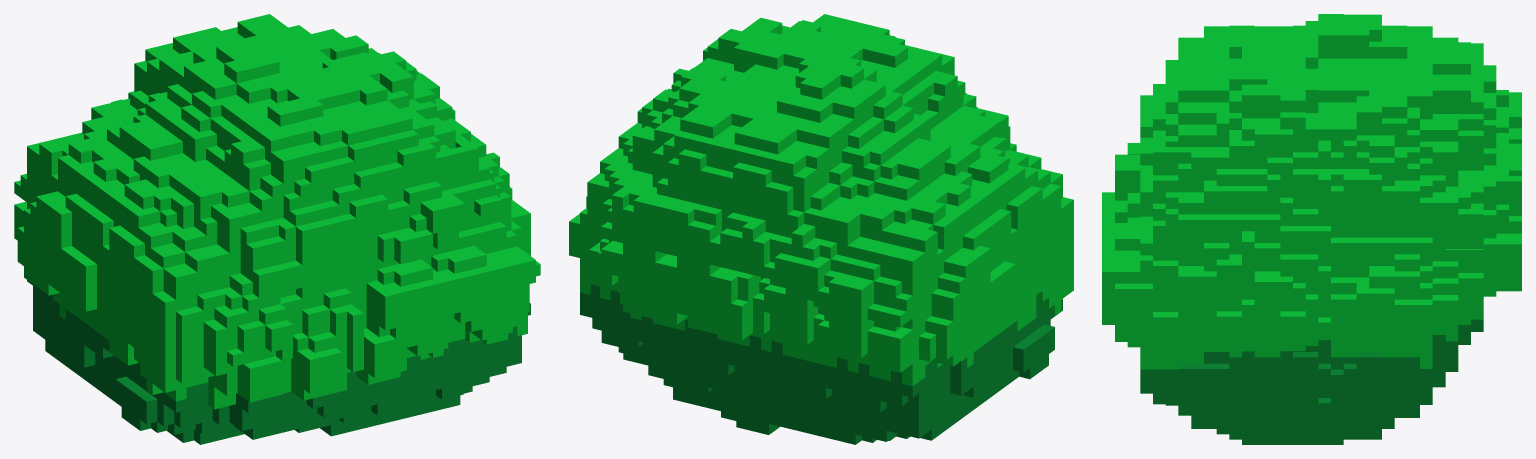
The model's file is canopy_3.glb.
3 views of the same model, side by side, from view 1: azimuth 30°, elevation 25°; view 2: azimuth 150°, elevation 25°; view 3: azimuth 270°, elevation 25° (orthographic). The views are drawn at different scales.
Visible parts, largest first — view 1: canopy_3; view 2: canopy_3; view 3: canopy_3.
Boxes of the visible parts, x1,y1,x2,y2 form: canopy_3: [14, 14, 540, 444]; canopy_3: [569, 14, 1073, 444]; canopy_3: [1102, 14, 1521, 444].
Bounding box in the file's own units: 10.8 × 8.7 × 9.9.
Materials: 1 (1 with a texture image).
